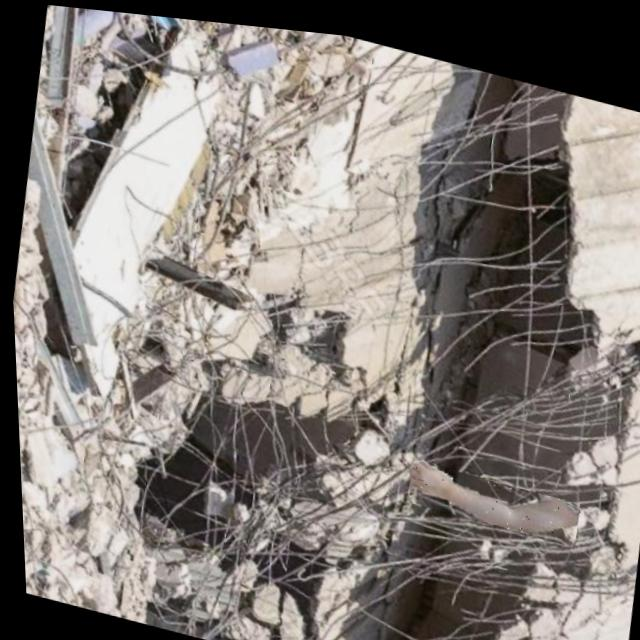Person in Rubble: (400, 450, 577, 535)
